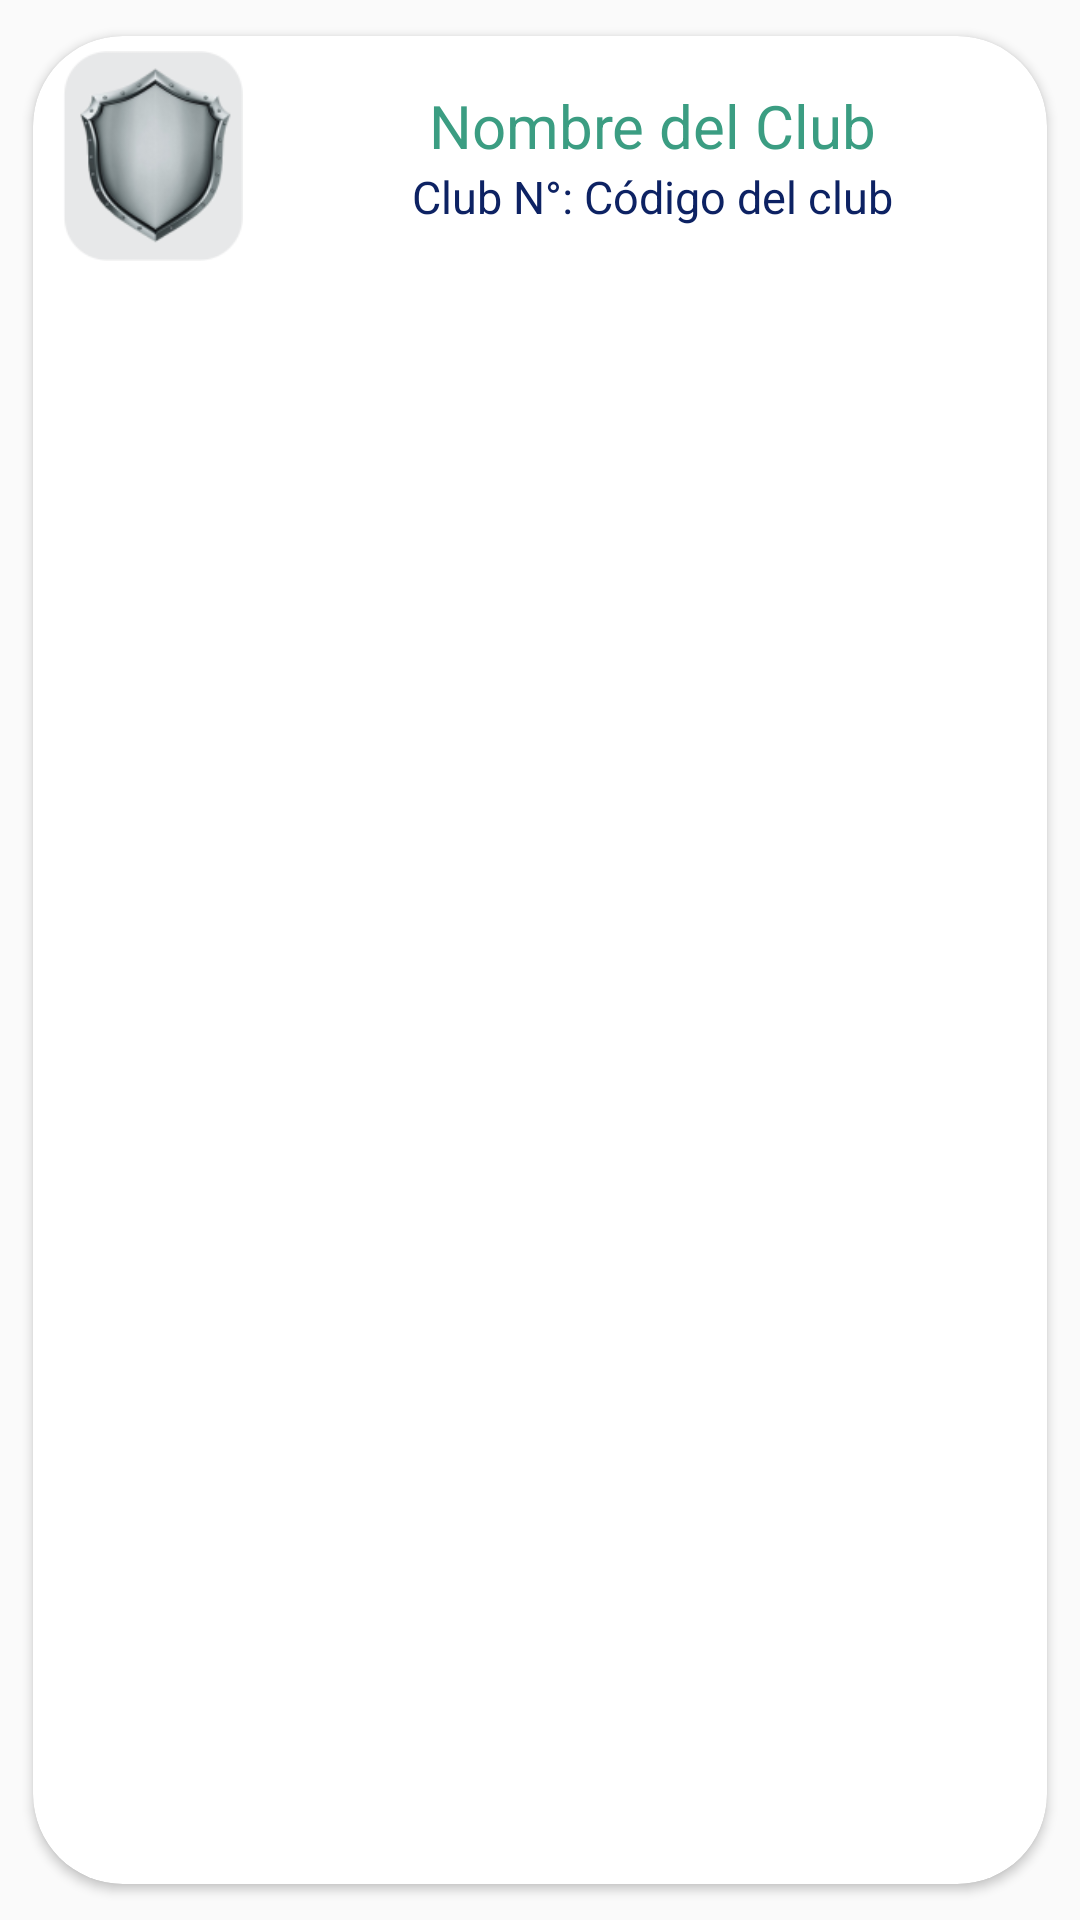

Icon click points for this 1080 x 1920 phone screenshot, format (x,y):
escudo: (155,155)
